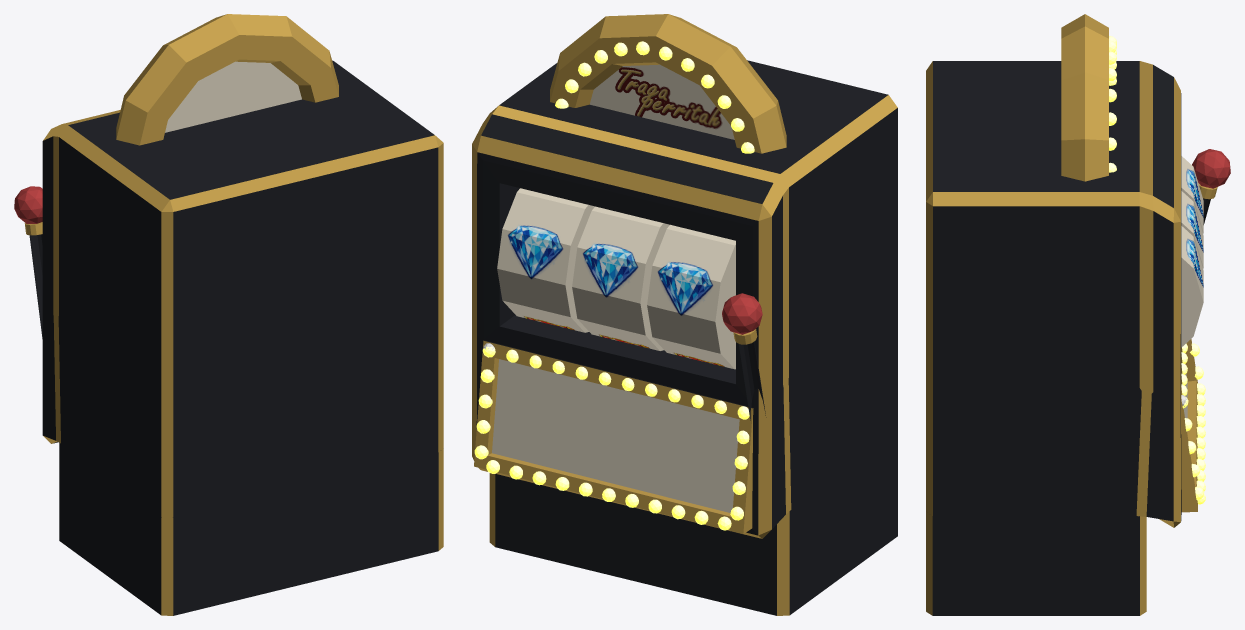
File: tragaperras.fbx
3 renders of one model, left to right at view 1: azimuth 30°, elevation 25°; view 2: azimuth 150°, elevation 25°; view 3: azimuth 270°, elevation 25°, orthographic. The views are drawn at different scales.
Parts seen in each view (by area): view 1: Cube, Cube.001, Torus, Torus.001, Cylinder.004, Cylinder.005; view 2: Cube, Cube.001, Torus, Cylinder.003, Cylinder.002, Cylinder.001, Torus.001, Icosphere.002, Icosphere.001, Cylinder.004, Cylinder.005; view 3: Cube, Cube.001, Torus, Cylinder.001, Icosphere.002, Cylinder.004, Cylinder.002, Cylinder.003, Icosphere.001.
Part boxes in pixels (x1,y1,x2,y2): Cube: (42, 60, 443, 517); Cube.001: (59, 442, 443, 615); Torus: (116, 14, 338, 145); Torus.001: (165, 61, 301, 132); Cylinder.004: (14, 186, 42, 223); Cylinder.005: (29, 234, 42, 338); Cube: (472, 60, 897, 538); Cube.001: (489, 432, 897, 615); Torus: (550, 14, 786, 153); Cylinder.003: (647, 224, 735, 369); Cylinder.002: (572, 206, 669, 350); Cylinder.001: (497, 188, 594, 332); Torus.001: (589, 64, 734, 139); Icosphere.002: (474, 346, 749, 530); Icosphere.001: (555, 41, 754, 153); Cylinder.004: (722, 293, 762, 334); Cylinder.005: (738, 341, 766, 420); Cube: (926, 61, 1197, 527); Cube.001: (926, 512, 1146, 615); Torus: (1061, 14, 1108, 181); Cylinder.001: (1181, 226, 1203, 347); Icosphere.002: (1181, 343, 1205, 504); Cylinder.004: (1192, 149, 1230, 188); Cylinder.002: (1181, 191, 1203, 268); Cylinder.003: (1181, 156, 1203, 233); Icosphere.001: (1109, 36, 1116, 172).
Size of the model in its own units: 307 by 520 by 276.
7 materials, 2 textured.
